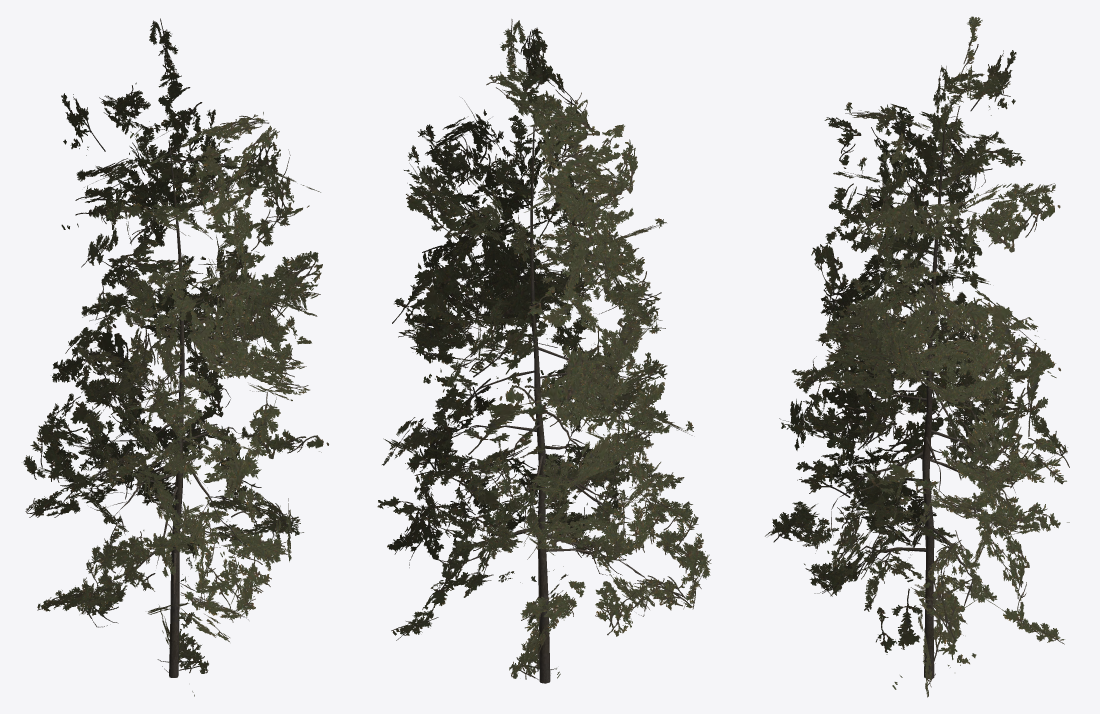
3 views of the same model, side by side, from view 1: azimuth 30°, elevation 25°; view 2: azimuth 150°, elevation 25°; view 3: azimuth 270°, elevation 25° (orthographic). The views are drawn at different scales.
Visible parts, largest first — view 1: pine_sapling_medium__a_lod2; view 2: pine_sapling_medium__a_lod2; view 3: pine_sapling_medium__a_lod2.
Boxes of the visible parts, x1,y1,x2,y2 form: pine_sapling_medium__a_lod2: (23, 18, 328, 696); pine_sapling_medium__a_lod2: (377, 19, 711, 683); pine_sapling_medium__a_lod2: (765, 16, 1069, 697).
Size of the model in its own units: 5.29 by 11.58 by 5.08.
2 materials, 2 textured.
